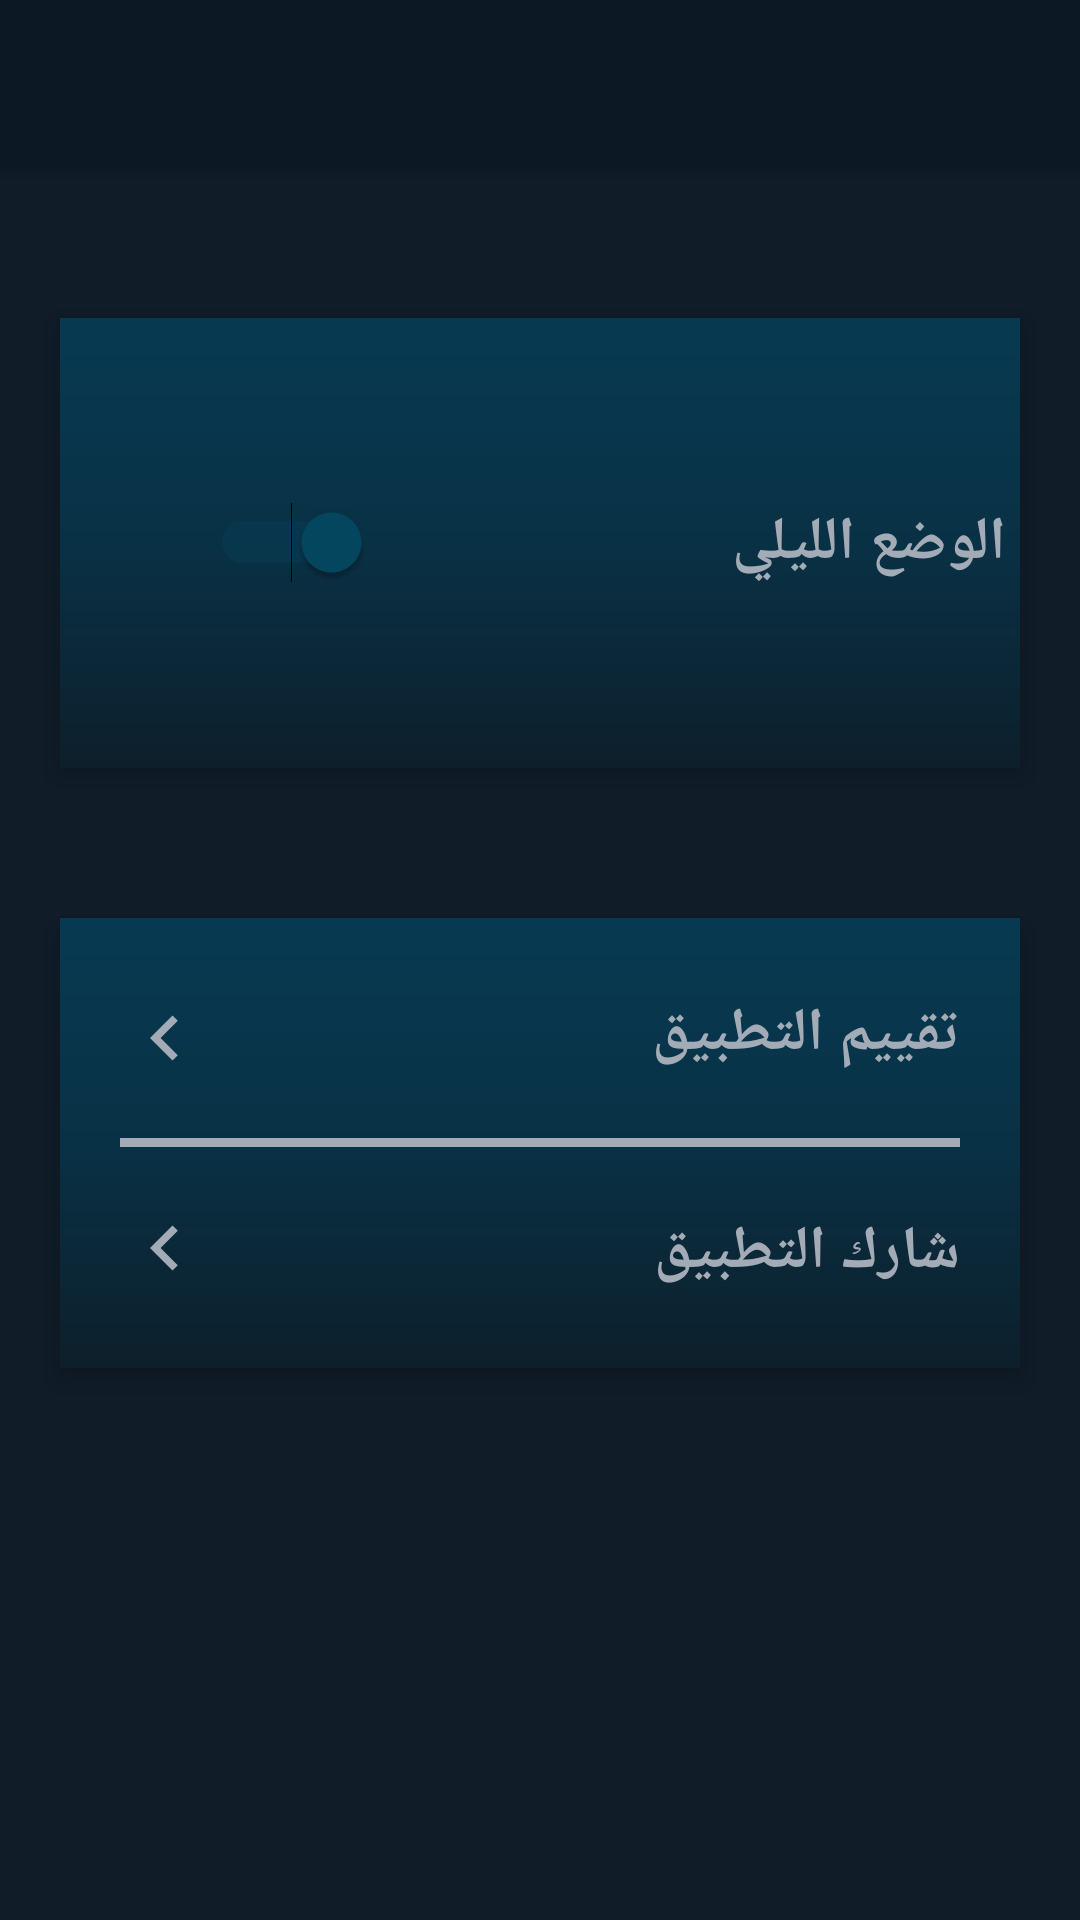

Screen size 1080 x 1920. Icon name, then its box in pixels as box=[x1, y1, x2, y2]:
chevron left: box=[150, 1015, 178, 1061], box=[150, 1225, 178, 1271]
